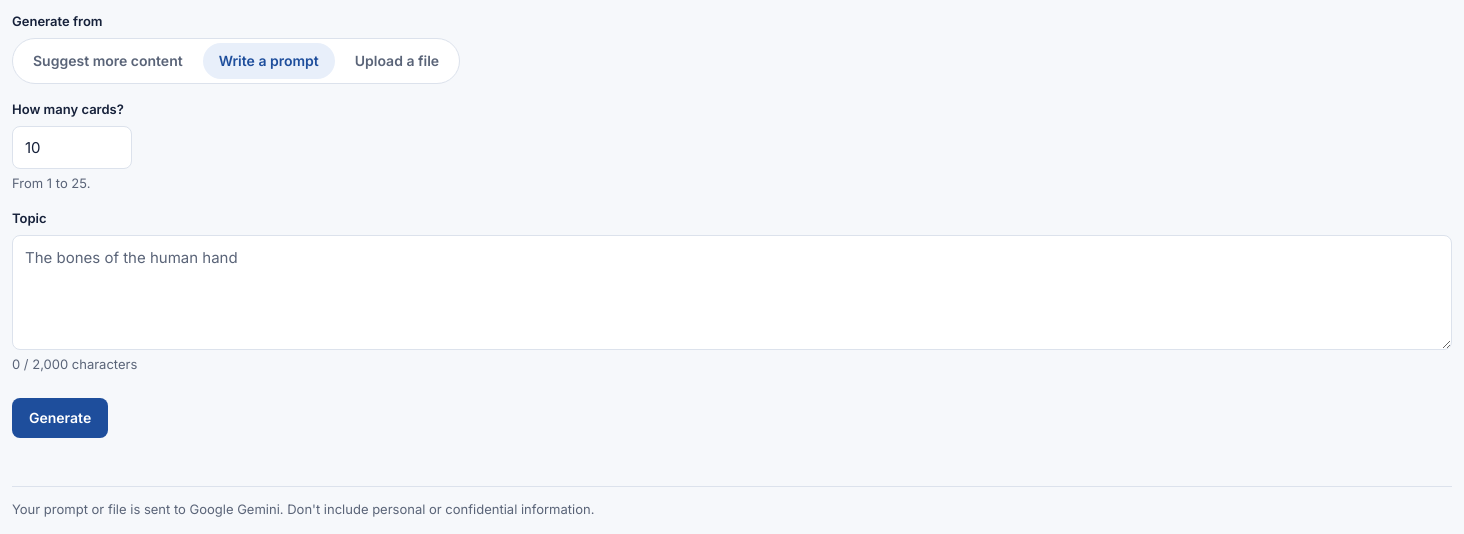
a count of "0" is caught before anything is sent
This screenshot has width=1464, height=534.
Type "Cells" into the text box labelled "Topic" at [732, 293], box [12,235,1452,350]
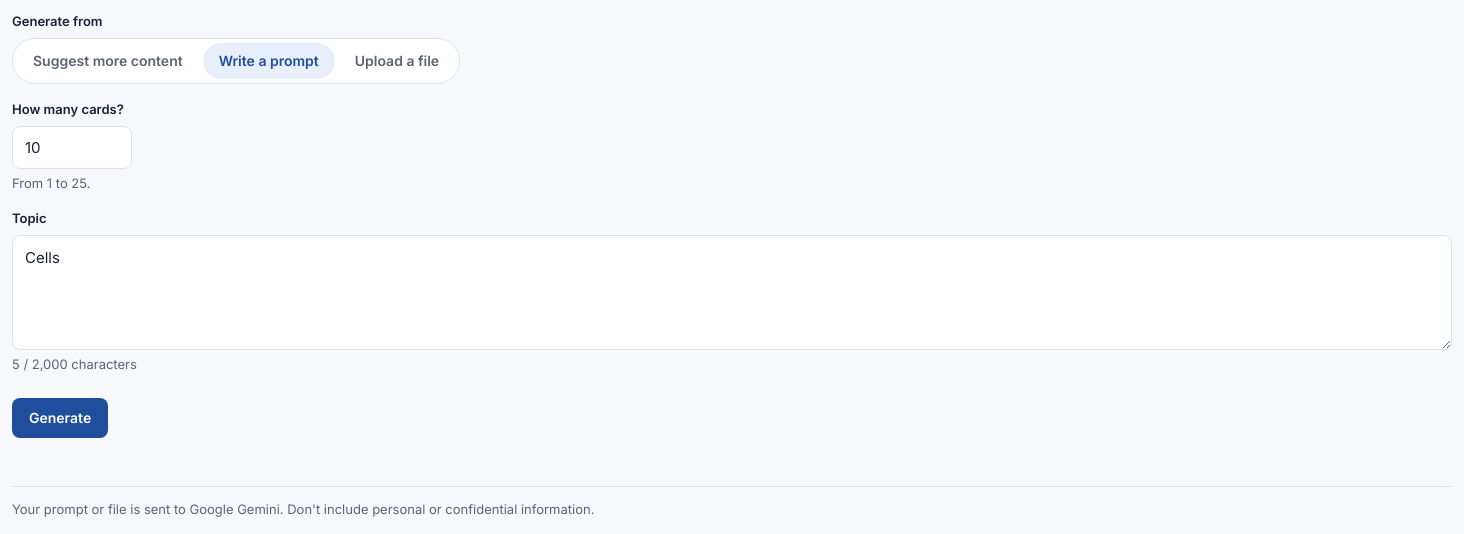
Replace the text in the number field labelled "How many cards?" with "0" at [72, 148], box [12,126,132,169]
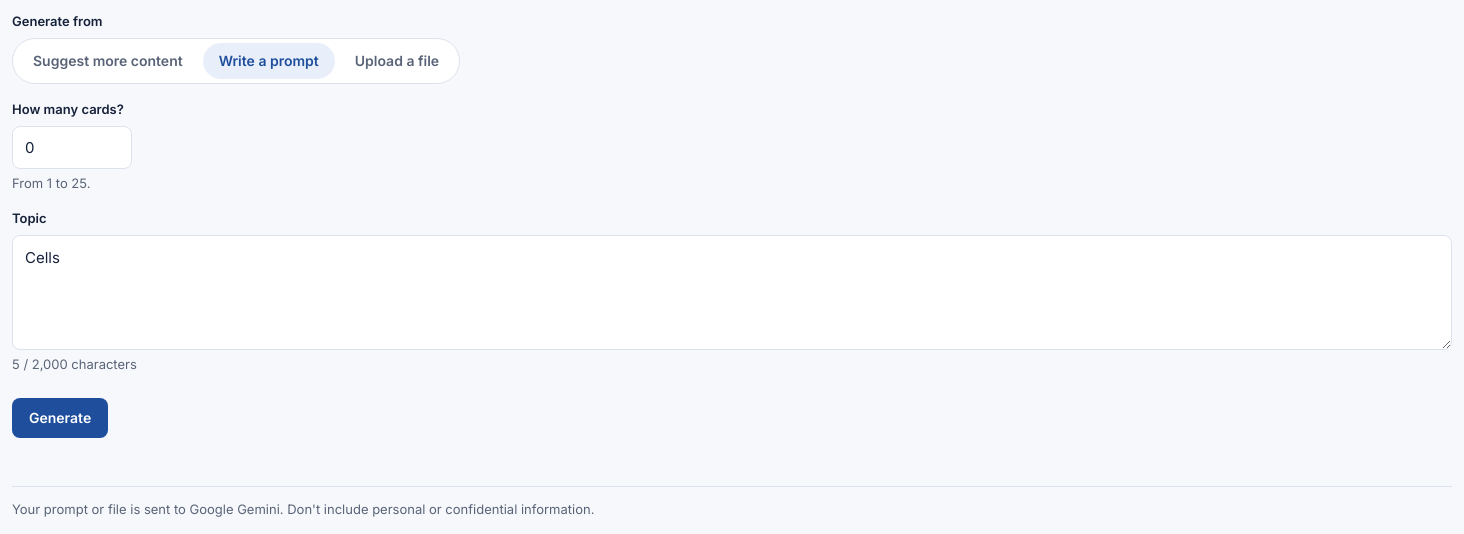
Click the button "Generate" at [60, 418], box [12,398,108,438]
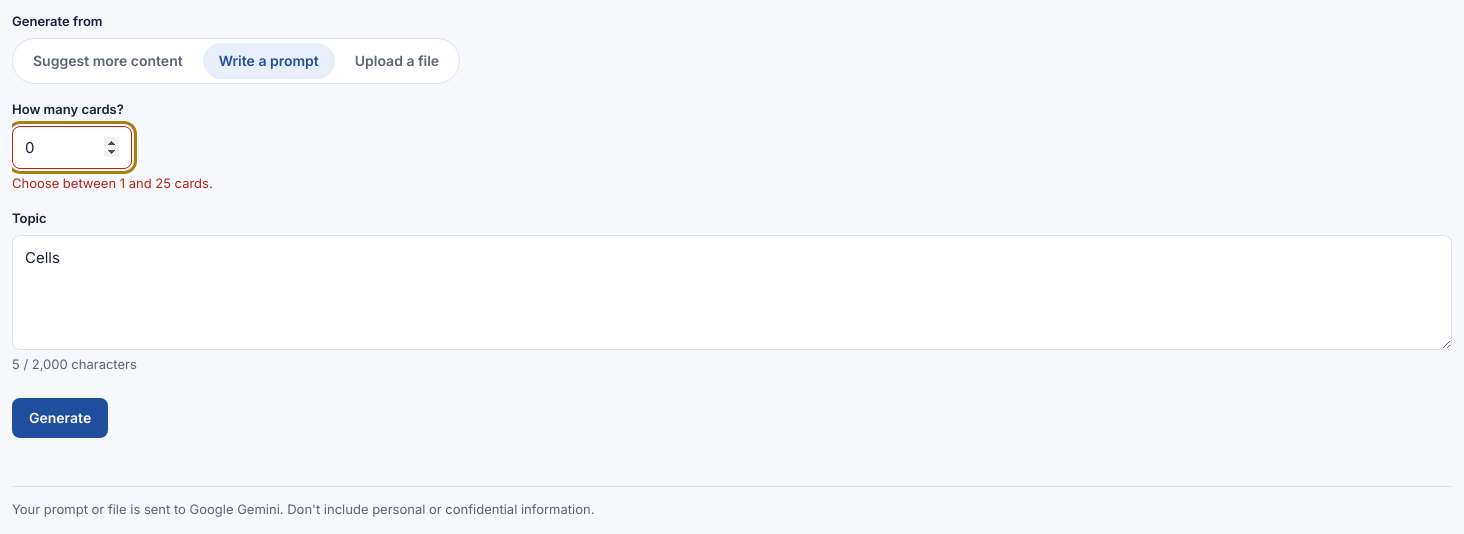
expect the text "Choose between 1 and 25 cards." is shown: met, box [12,175,213,191]
